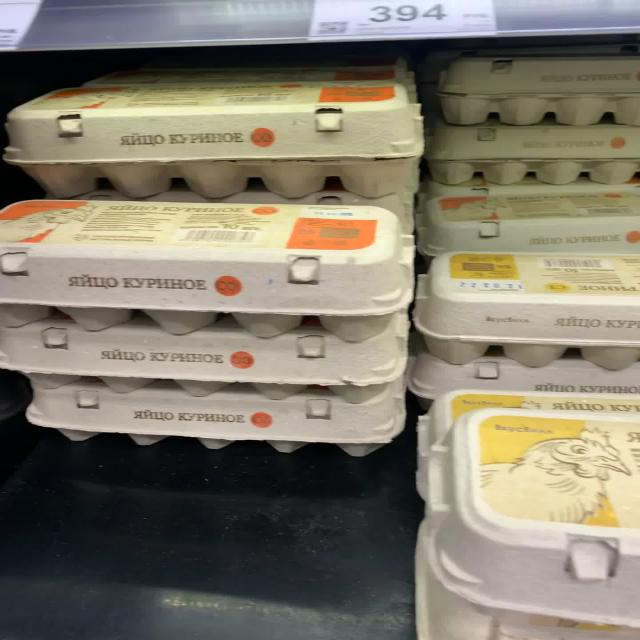egg box: (0, 196, 414, 344), (5, 78, 430, 200), (1, 321, 406, 404), (410, 249, 638, 372), (21, 385, 405, 454), (418, 185, 638, 254)
